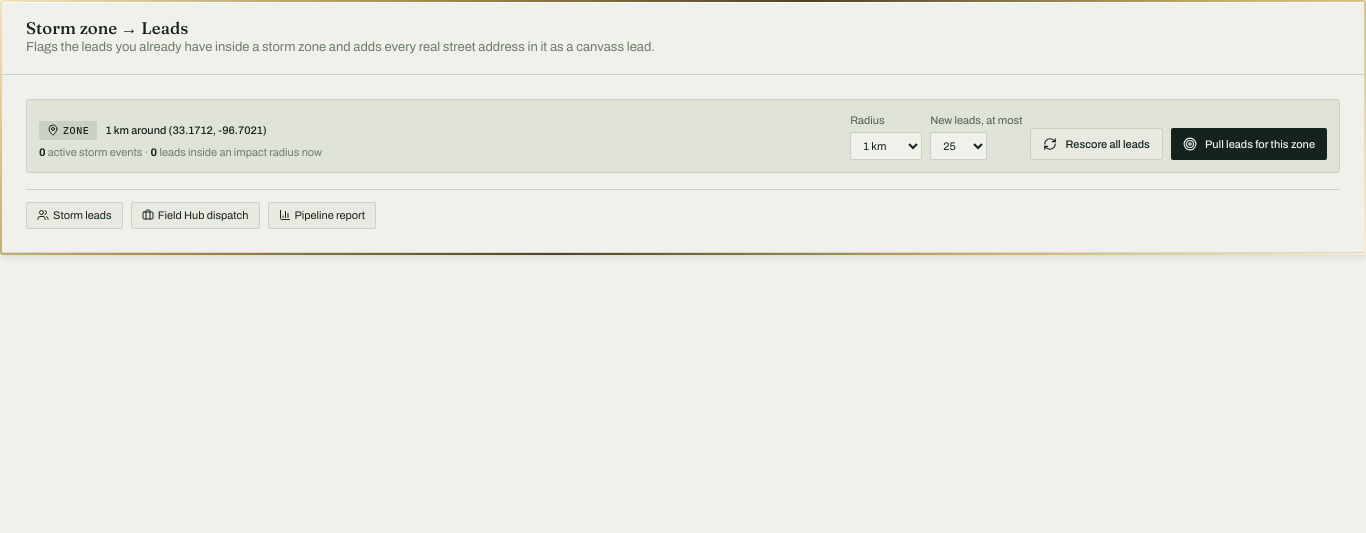
Test: Storm zone -> Leads panel › sends the clicked point with the chosen radius and limit, and lists both kinds of lead
Select "2 km" in the dropdown labelled "Radius": (886, 146) [850,132,922,160]
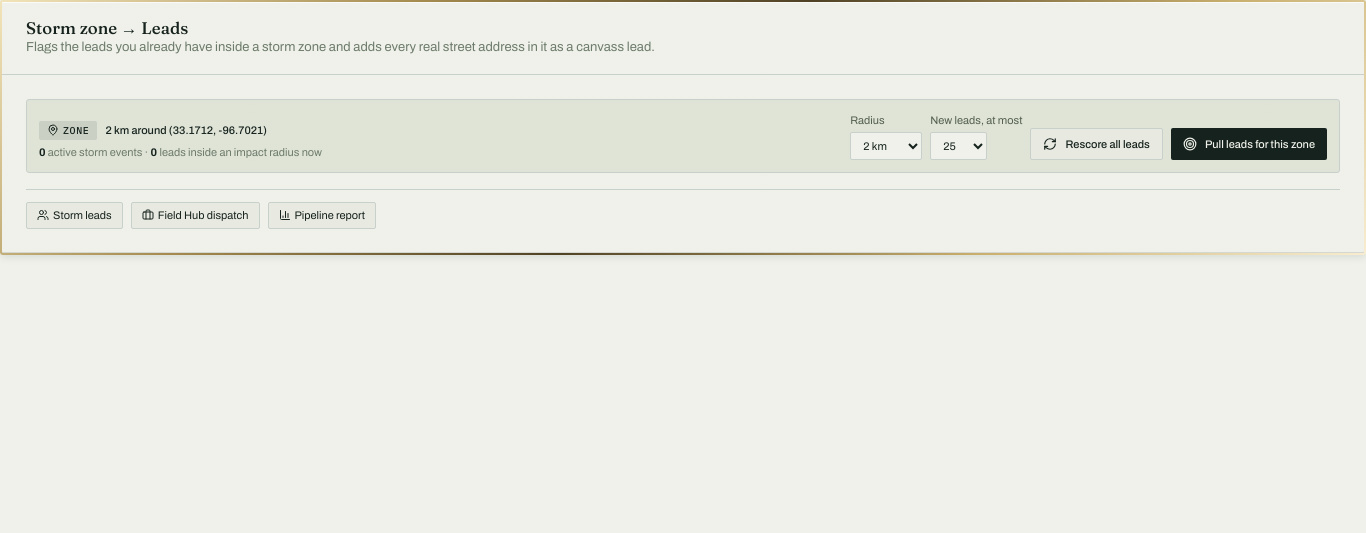
Select "50" in the dropdown labelled "New leads, at most": (959, 146) [930,132,987,160]
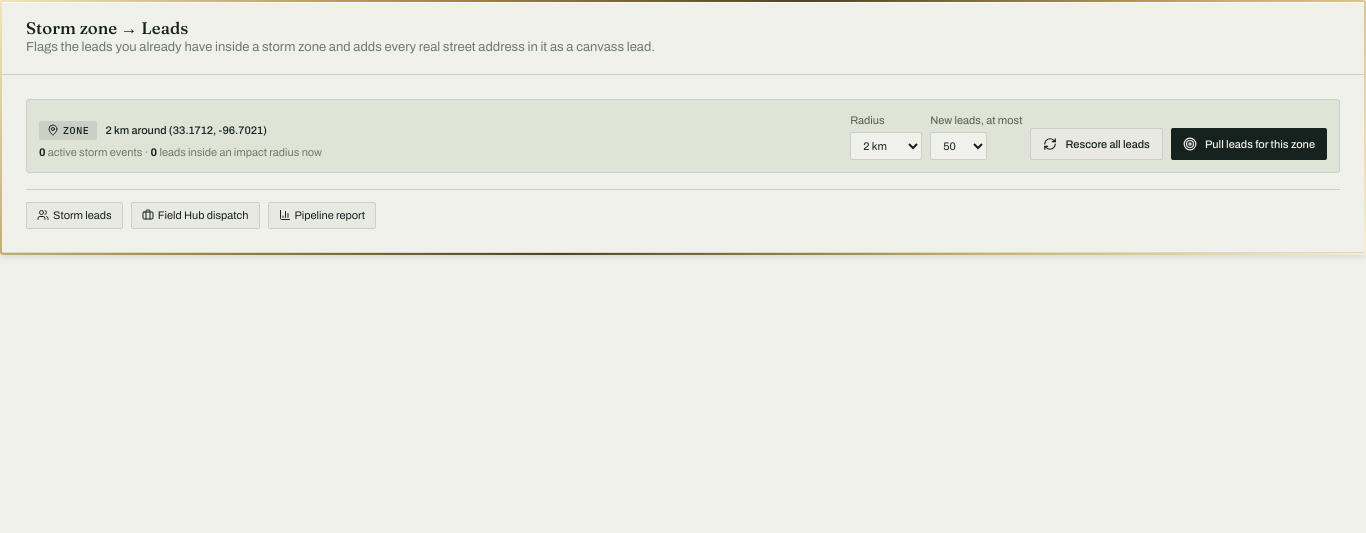
Click the button "Pull leads for this zone": (1249, 144) [1171,128,1327,160]
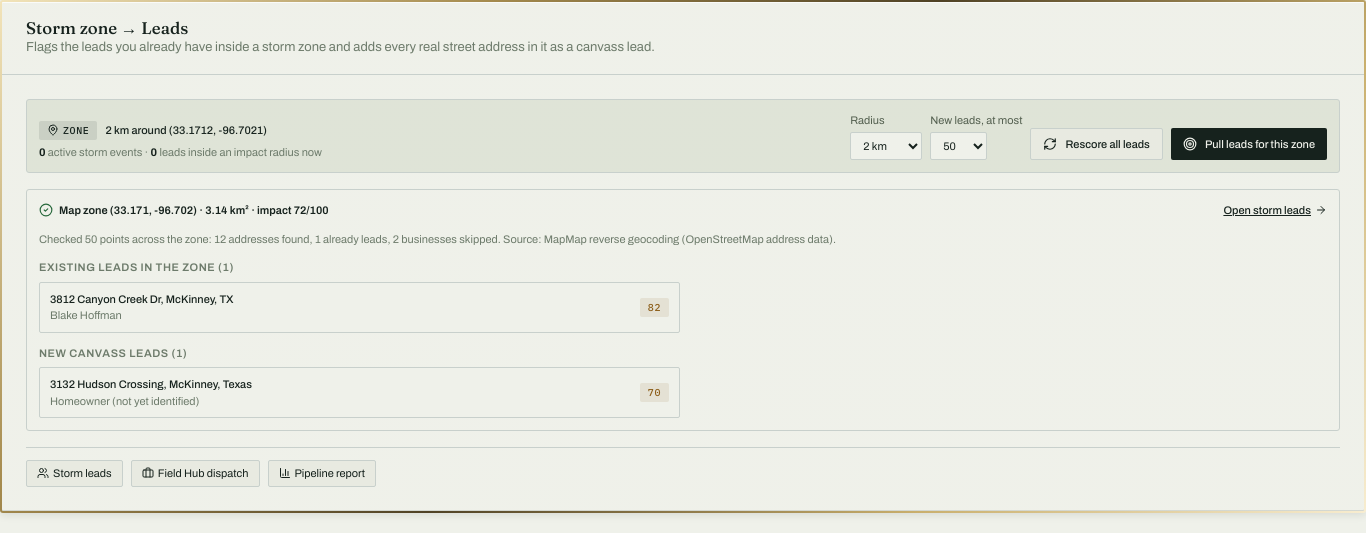
Expected: the heading "New canvass leads (1)" is shown, [39,347,187,359]
Expected: the text "3812 Canyon Creek Dr, McKinney, TX" is shown, [50,291,234,307]
Expected: the text "3132 Hudson Crossing, McKinney, Texas" is shown, [50,376,252,393]
